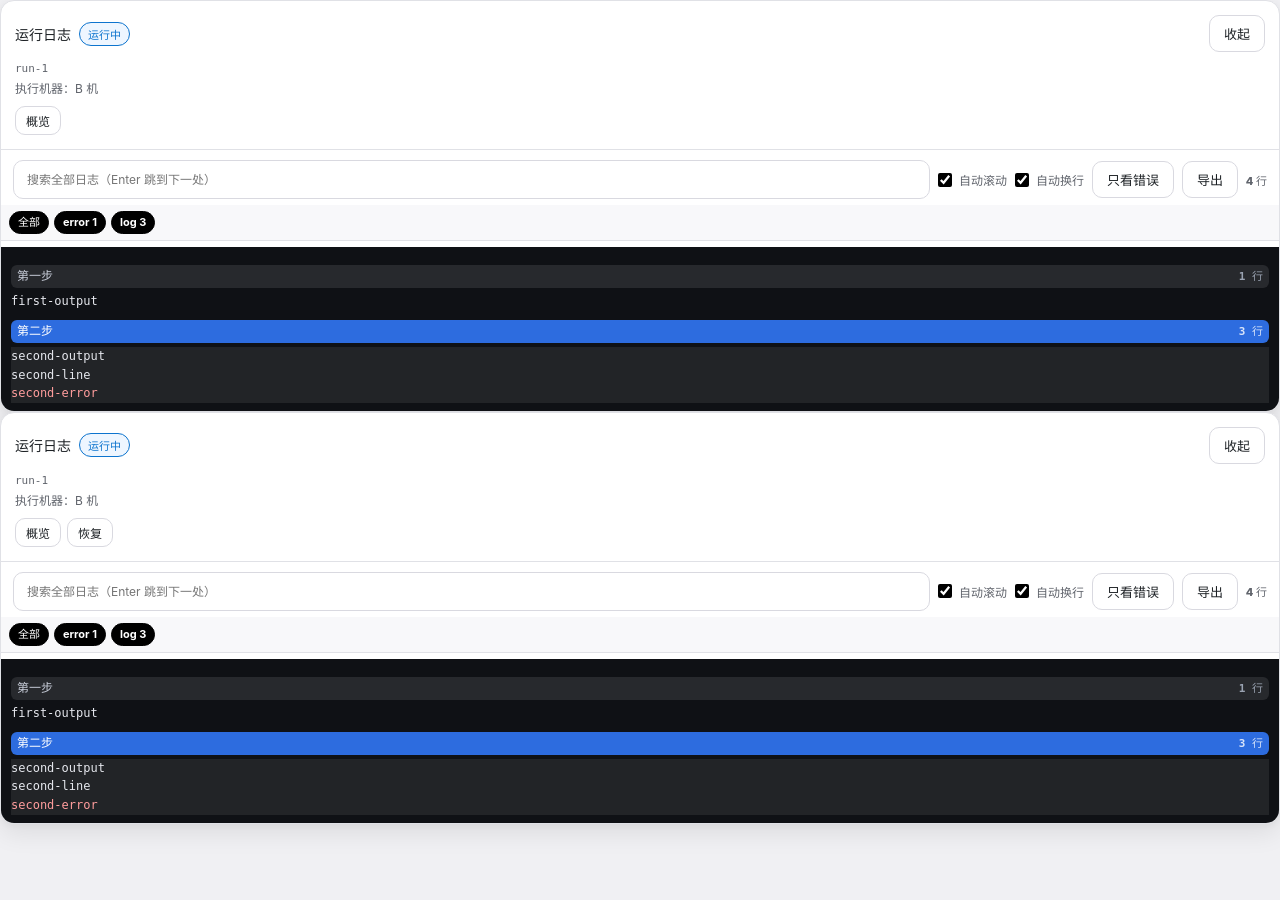
RunLogPanel 顶部折叠区 › 有恢复数据时才出现恢复开关，打开才去读取
The image size is (1280, 900).
Step 1. Click the button "恢复" → {"x": 90, "y": 532}, box [67,518,113,547]
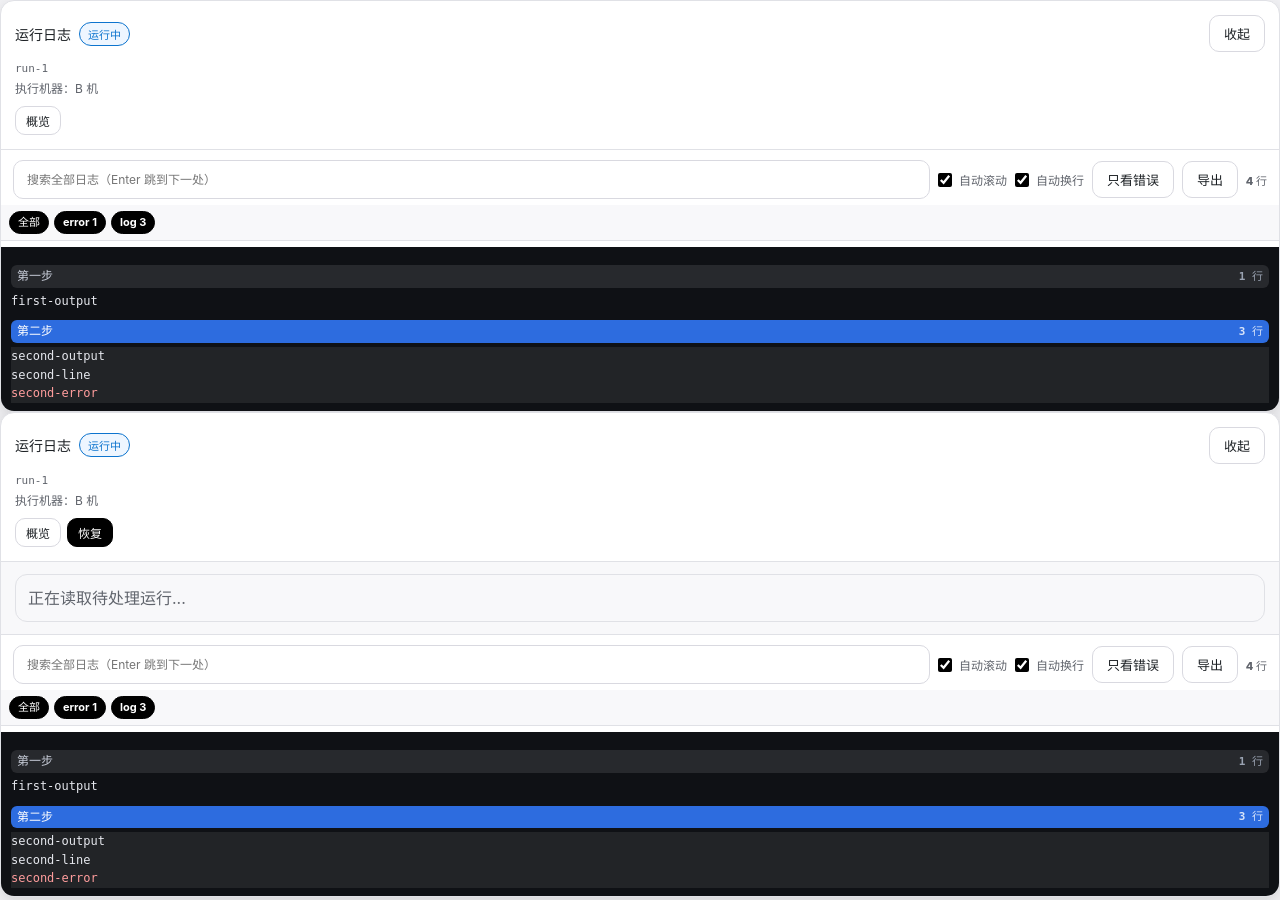
Expected: the element with class "nodeRunRecovery" shows "正在读取待处理运行", [28,588,186,608]
